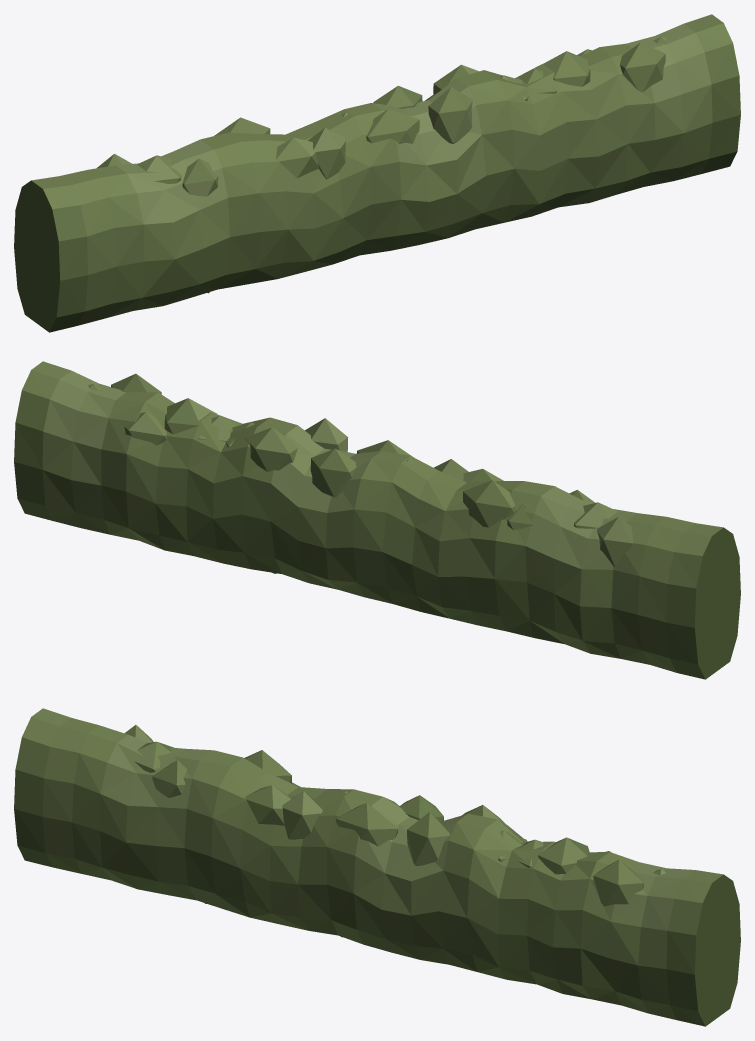
Rendered from lwf_hedge_straight_8m_b_v1.glb.
3 renders of one model, top to bottom at view 1: azimuth 30°, elevation 25°; view 2: azimuth 150°, elevation 25°; view 3: azimuth 330°, elevation 25°, orthographic.
Visible parts, largest first — view 1: lwf_hedge_straight_8m_b_v1; view 2: lwf_hedge_straight_8m_b_v1; view 3: lwf_hedge_straight_8m_b_v1.
Boxes of the visible parts, x1,y1,x2,y2 form: lwf_hedge_straight_8m_b_v1: [14, 14, 740, 332]; lwf_hedge_straight_8m_b_v1: [14, 361, 740, 679]; lwf_hedge_straight_8m_b_v1: [14, 708, 740, 1026].
Bounding box in the file's own units: 8 × 1.75 × 1.
Materials: 1 (1 with a texture image).
